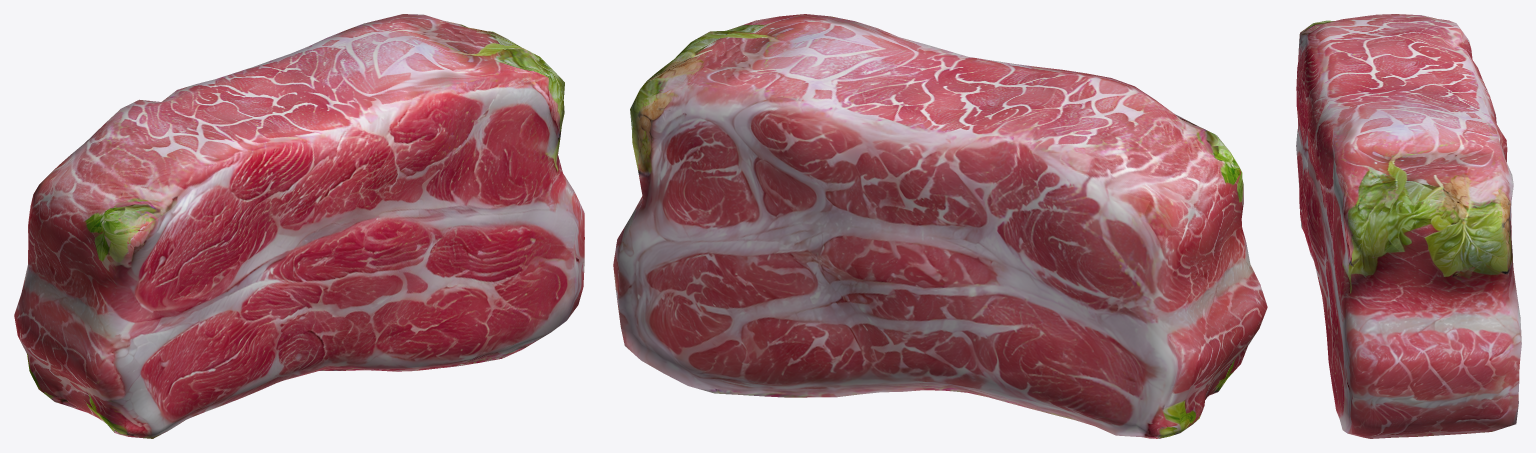
The model's file is cc0_-_raw_meat_4_1k.glb.
The picture shows the model from 3 angles, left to right: view 1: azimuth 30°, elevation 25°; view 2: azimuth 150°, elevation 25°; view 3: azimuth 270°, elevation 25°; orthographic projection. The views are drawn at different scales.
Parts seen in each view (by area): view 1: RawMeat4_Material #46_0; view 2: RawMeat4_Material #46_0; view 3: RawMeat4_Material #46_0.
Boxes of the visible parts, x1,y1,x2,y2 form: RawMeat4_Material #46_0: [14, 14, 584, 438]; RawMeat4_Material #46_0: [613, 14, 1267, 438]; RawMeat4_Material #46_0: [1296, 14, 1521, 438].
Size of the model in its own units: 0.2335 by 0.1288 by 0.0947.
Materials: 1 (1 with a texture image).
